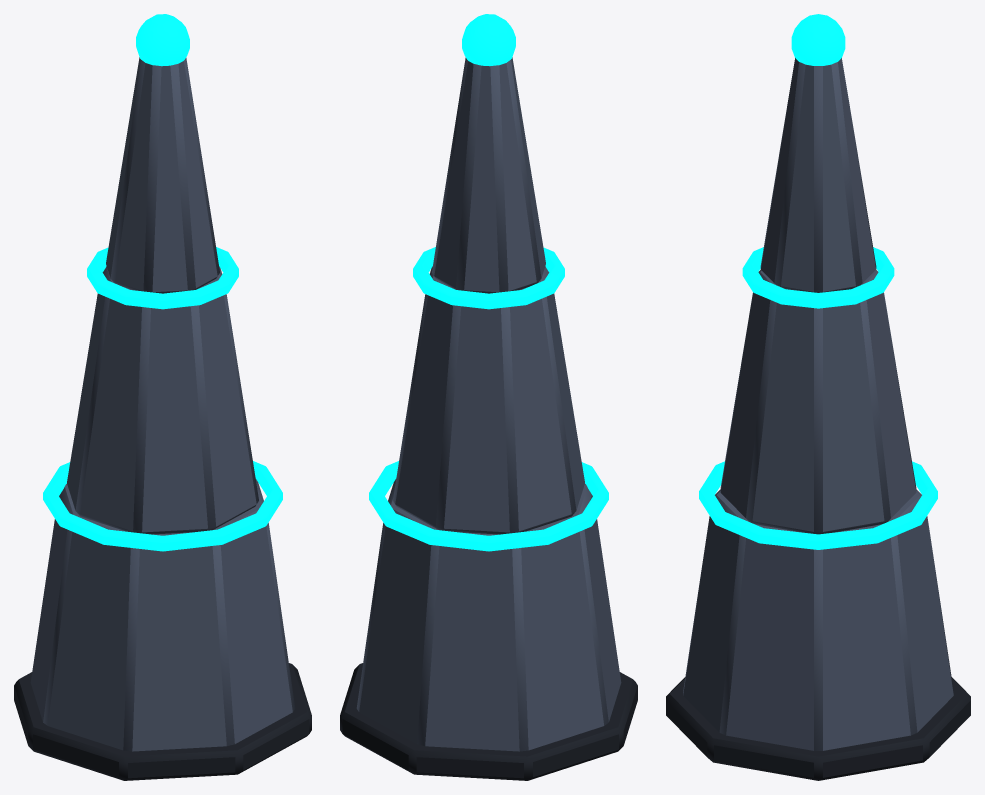
File: pylon_glow.glb
3 renders of one model, left to right at view 1: azimuth 30°, elevation 25°; view 2: azimuth 150°, elevation 25°; view 3: azimuth 270°, elevation 25°, orthographic.
Parts seen in each view (by area): view 1: pylon_glow; view 2: pylon_glow; view 3: pylon_glow.
Boxes of the visible parts, x1,y1,x2,y2 form: pylon_glow: [14, 14, 311, 780]; pylon_glow: [340, 14, 637, 780]; pylon_glow: [666, 14, 970, 780].
Size of the model in its own units: 0.9085 by 2.31 by 0.9085.
